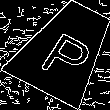P_NE: (33, 19, 97, 81)
